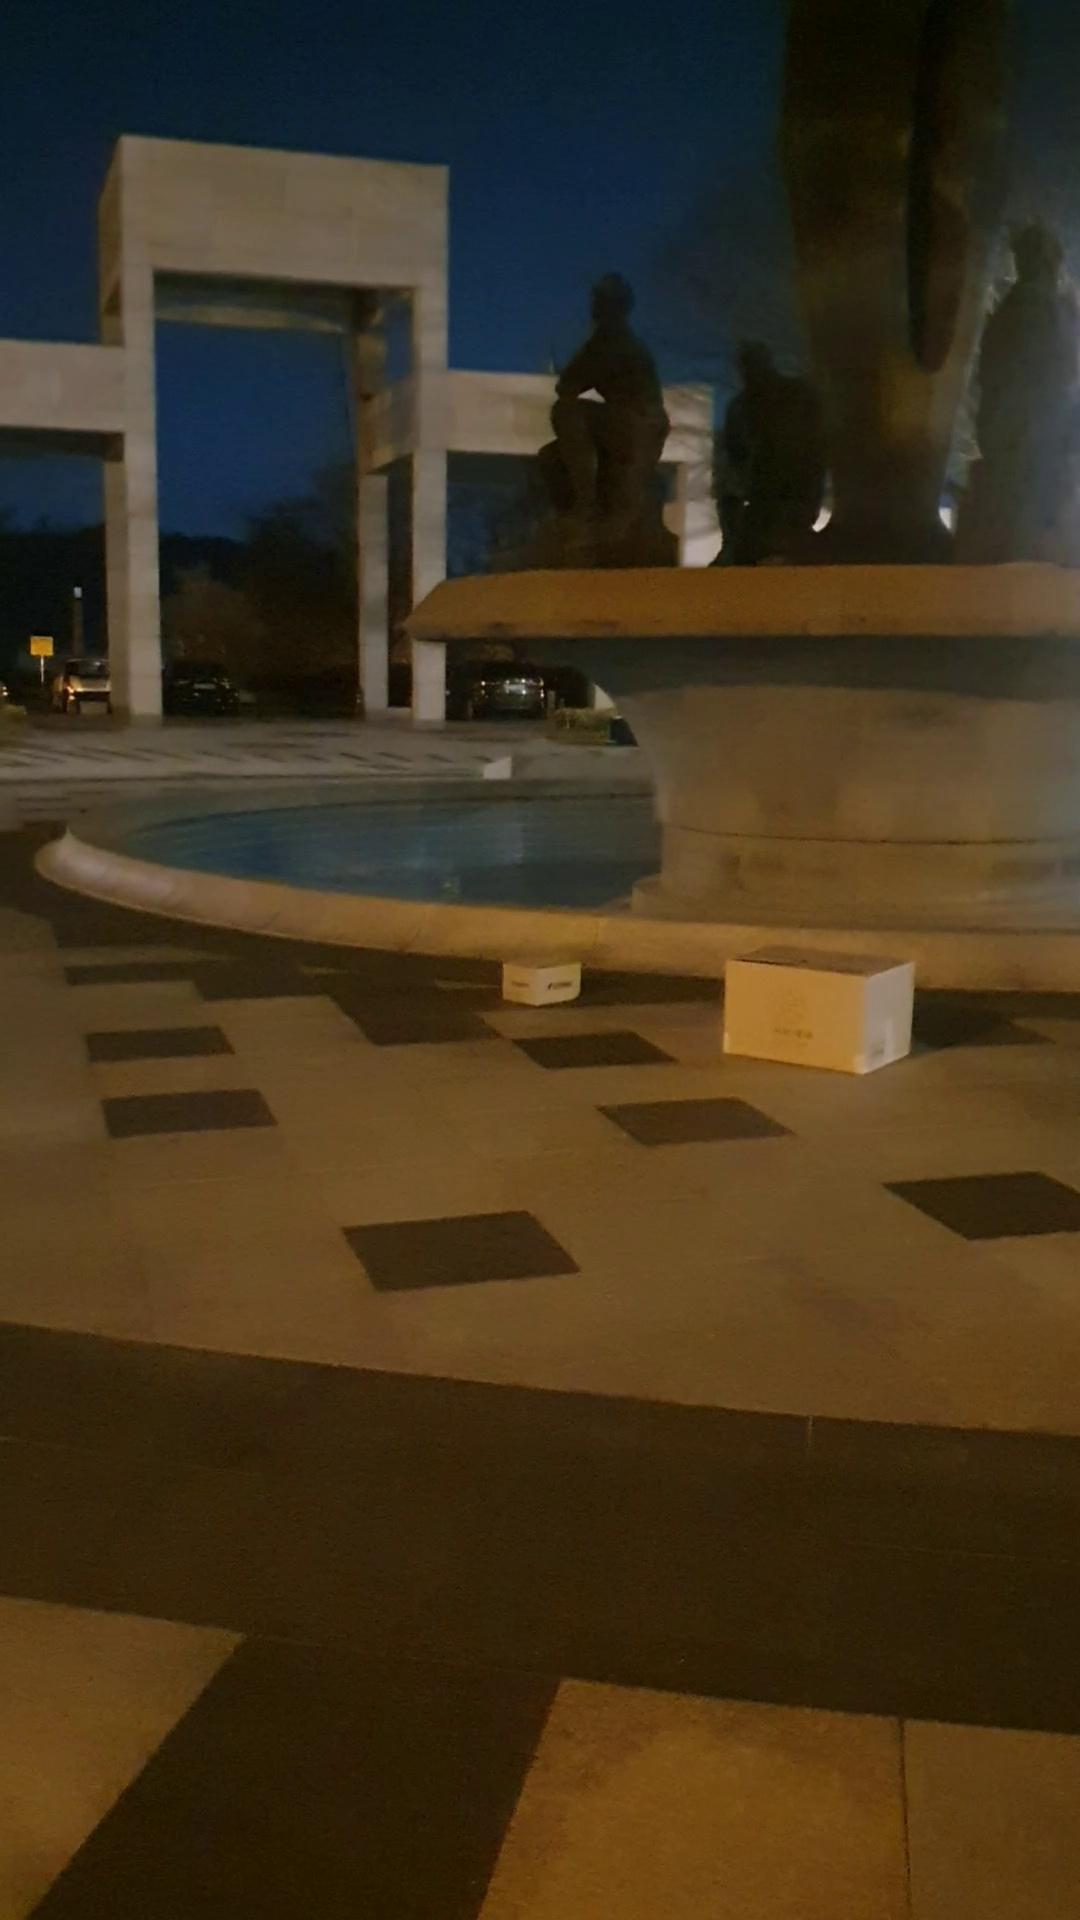Box: (694, 924, 916, 1085), (483, 938, 600, 1025)
